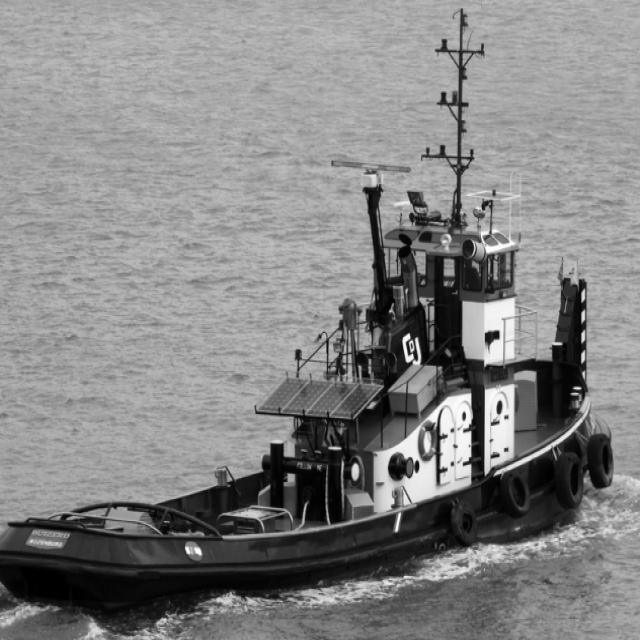tugboat: (1, 155, 619, 640)
